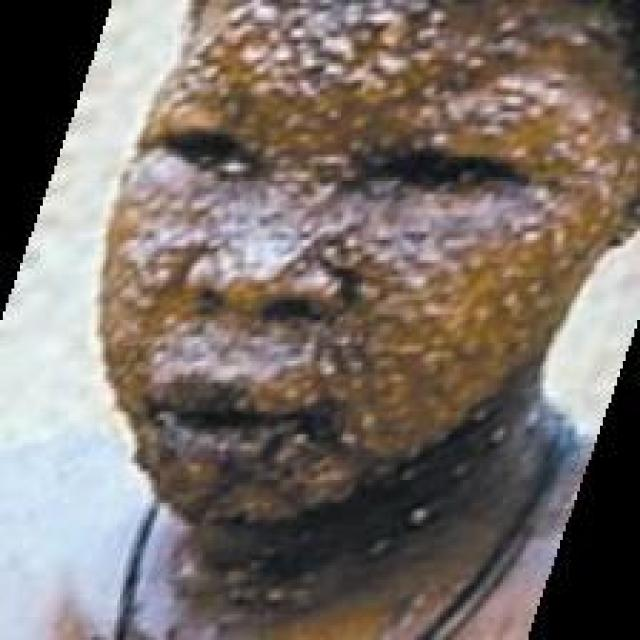monkeypox: (107, 0, 640, 595)
